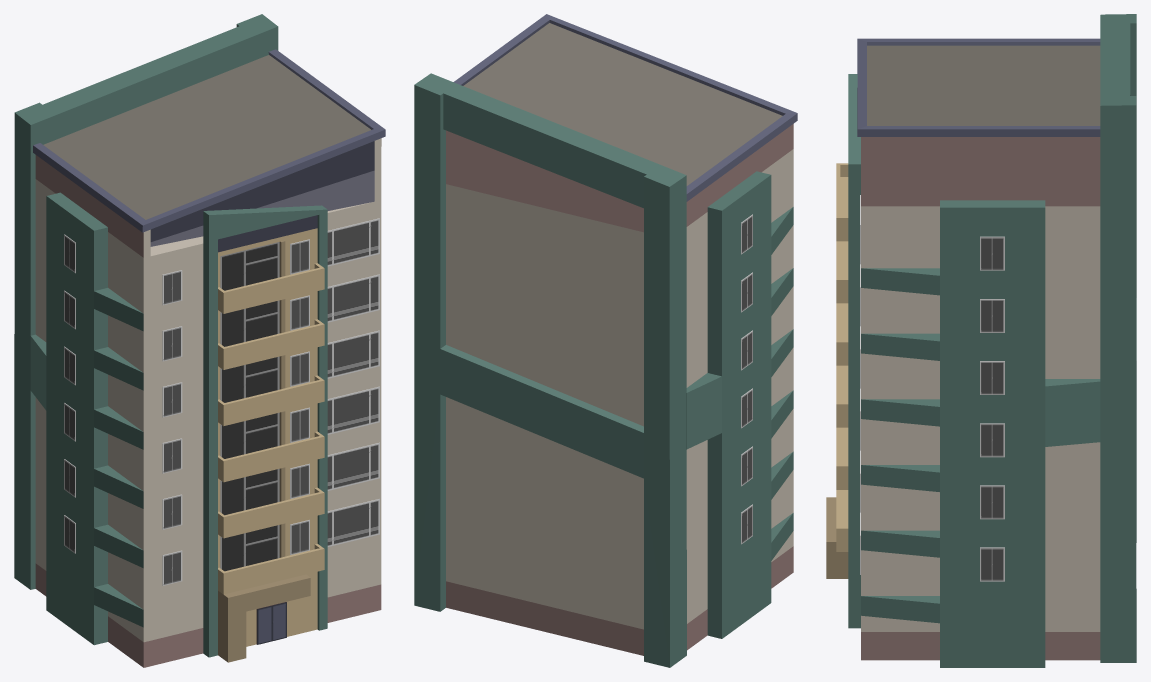
The model's file is building08_color02.fbx.
3 renders of one model, left to right at view 1: azimuth 30°, elevation 25°; view 2: azimuth 150°, elevation 25°; view 3: azimuth 270°, elevation 25°, orthographic. The views are drawn at different scales.
Visible parts, largest first — view 1: building08_color02; view 2: building08_color02; view 3: building08_color02.
Boxes of the visible parts, bbox=[...] form: building08_color02: bbox=[14, 14, 385, 667]; building08_color02: bbox=[414, 14, 797, 667]; building08_color02: bbox=[826, 14, 1136, 667].
Size of the model in its own units: 1685 by 3038 by 1533.
